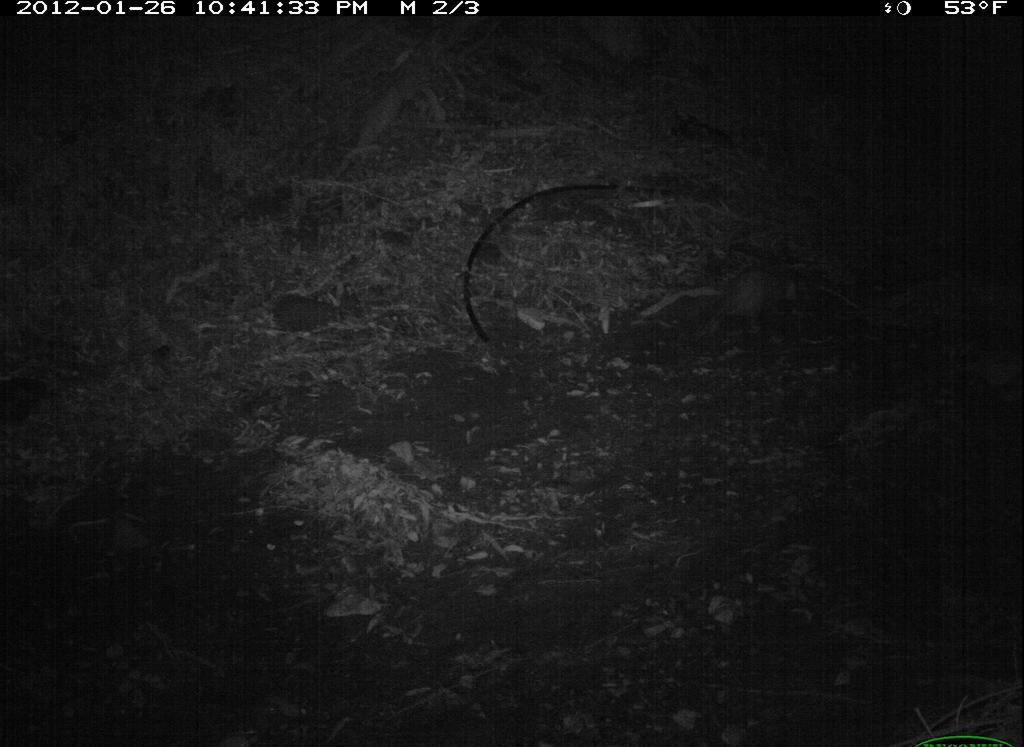opossum: (660, 253, 839, 365)
